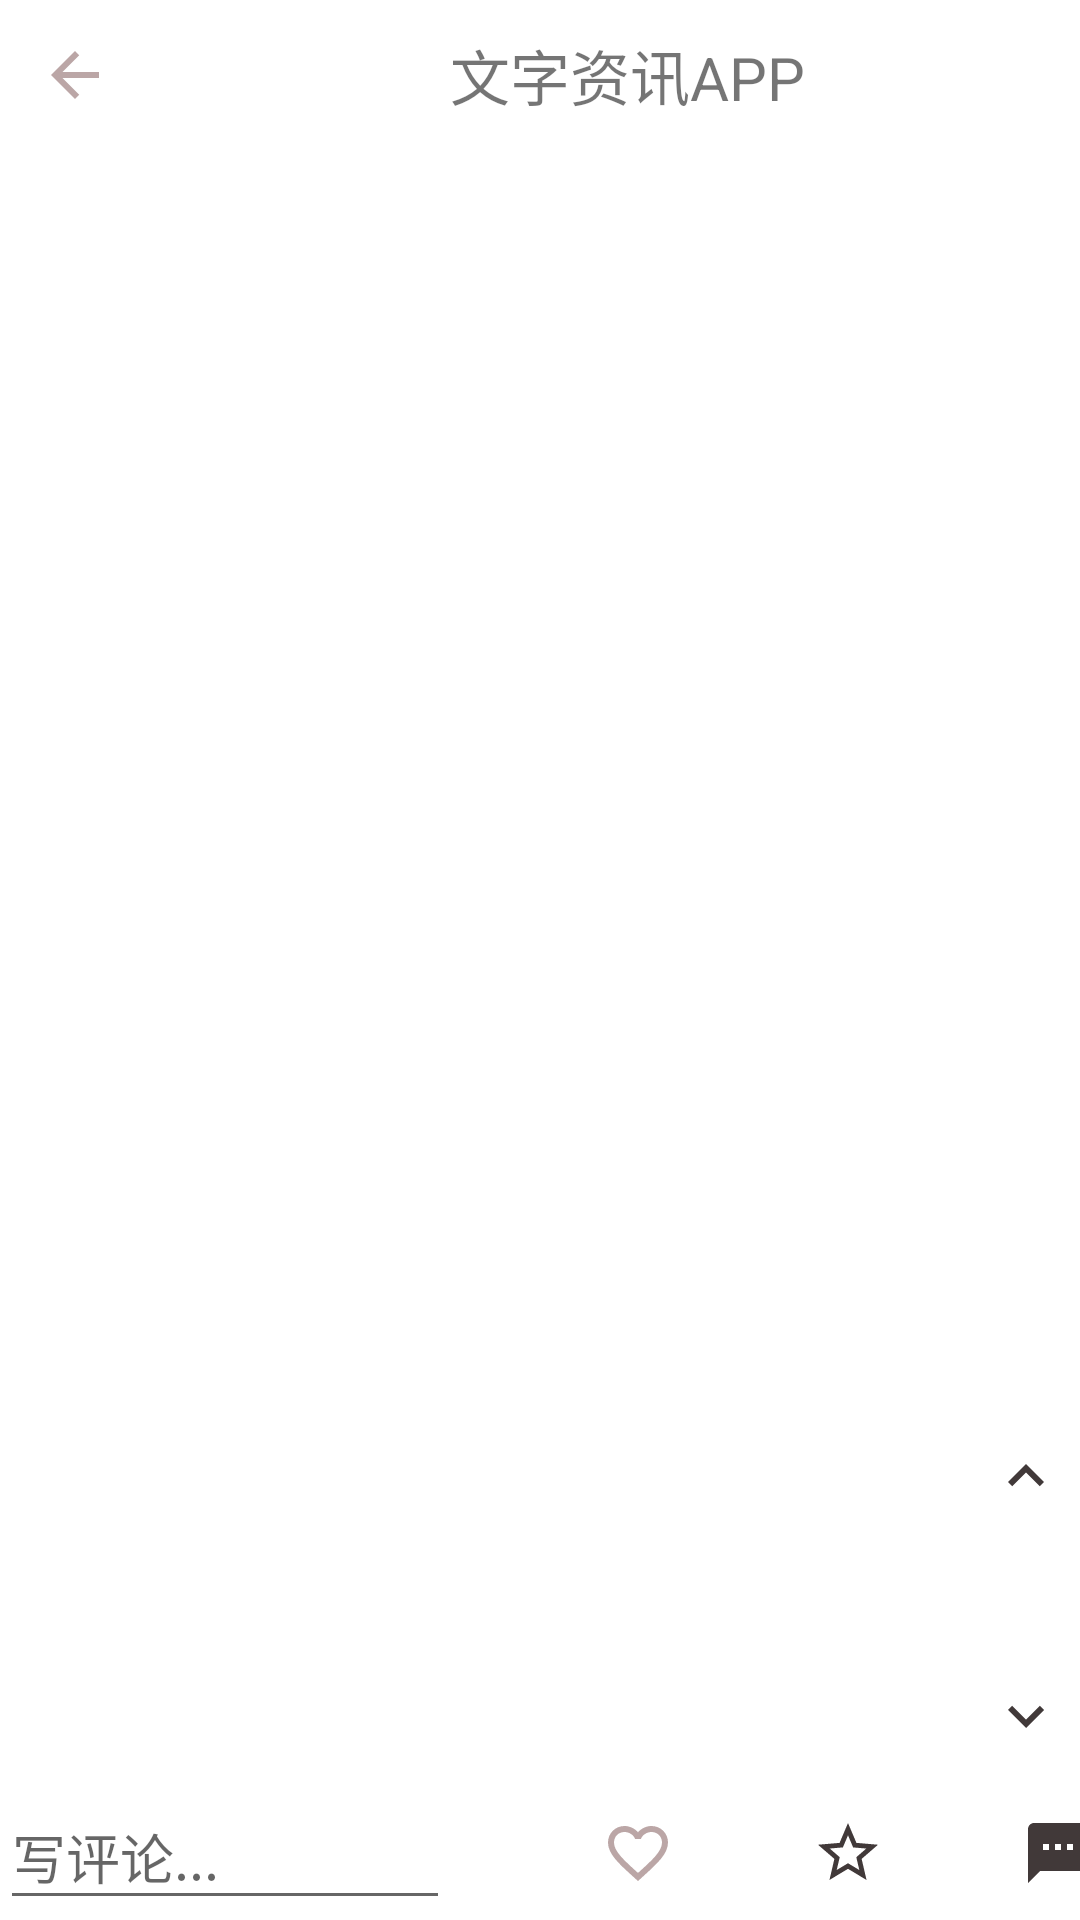

Locate icon controls on the screen. Image size 1080px×1920px, boxes as detection(x1, y1, x2, y2).
arrow back: detection(51, 51, 99, 99)
favorite border: detection(608, 1826, 668, 1881)
keyboard arrow down: detection(1008, 1706, 1044, 1728)
keyboard arrow up: detection(1008, 1464, 1044, 1486)
star border: detection(818, 1823, 878, 1880)
